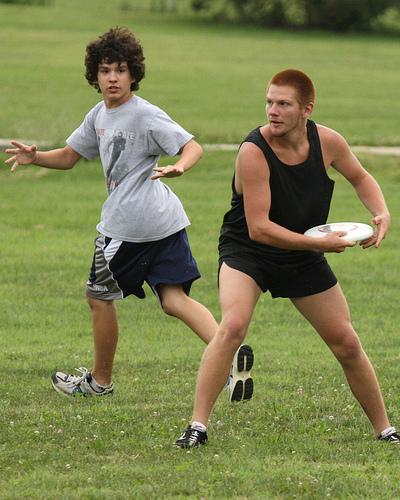person: (173, 70, 399, 453)
